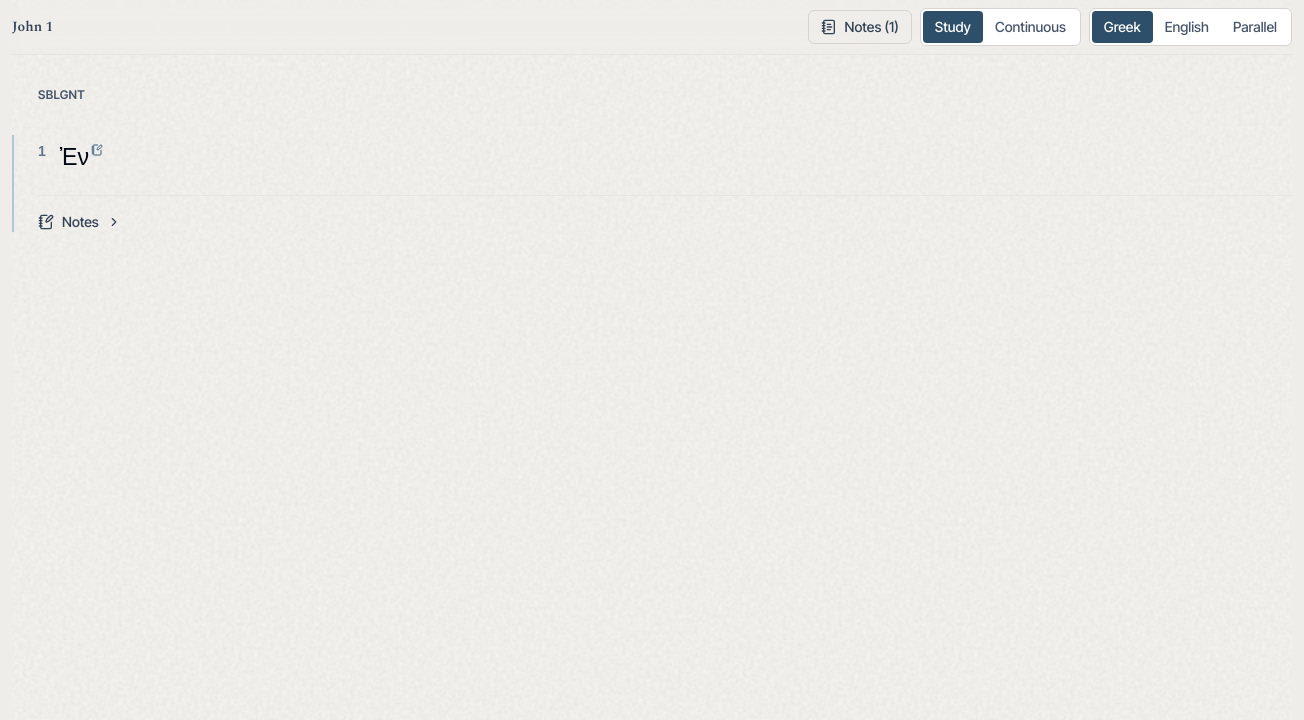
it: BibleReader token notes (study layout) › shows existing token notes in the morphology popover
Click the button "Ἐν": (81, 157) [56,135,107,179]
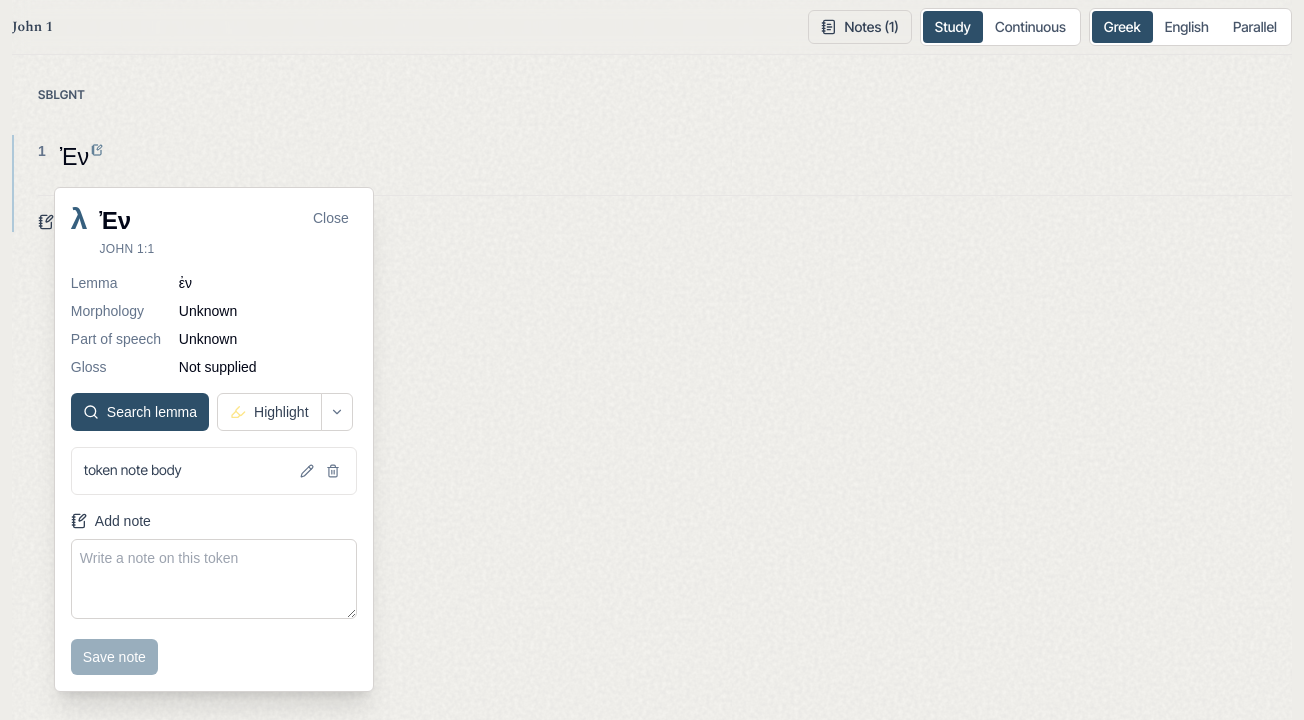
Check: the text "token note body" is shown, box [84,460,182,480]
